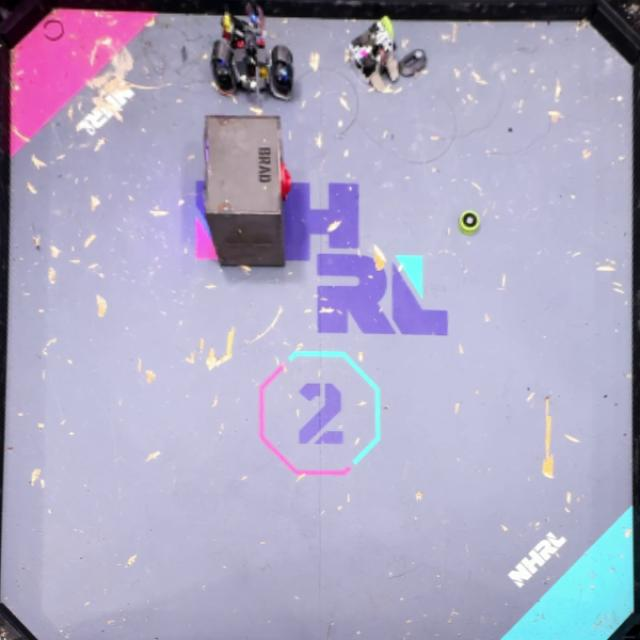housebot: (202, 115, 292, 268)
robot: (208, 1, 295, 102), (342, 16, 400, 95)
